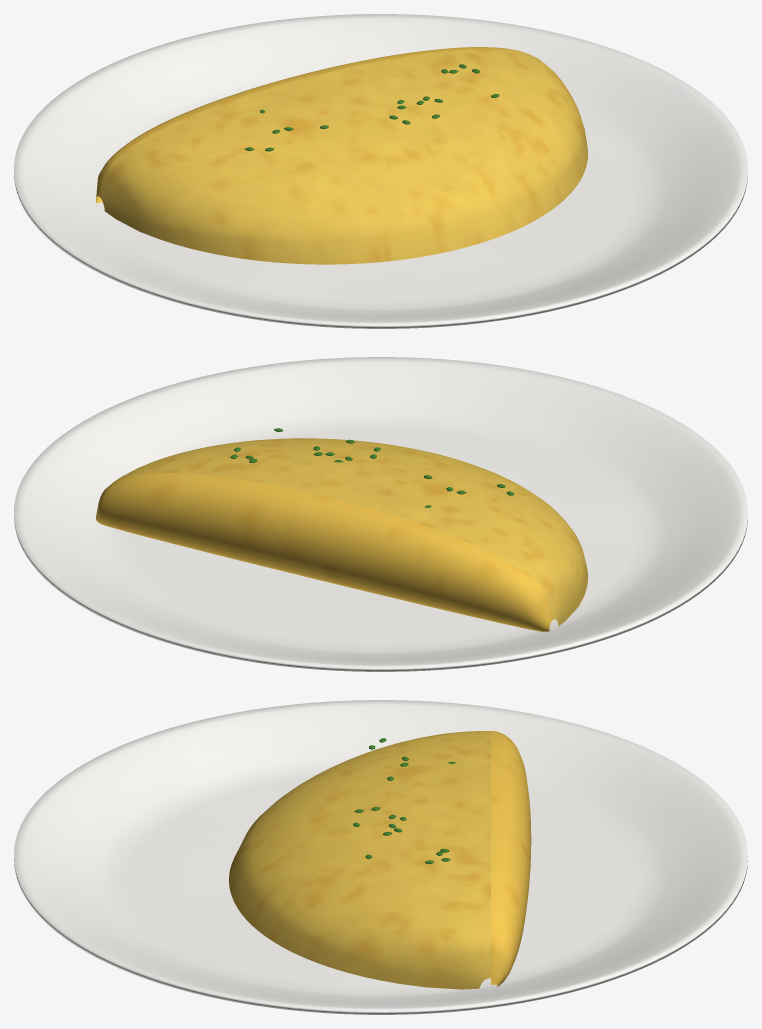
The model's file is omelette.glb.
3 renders of one model, top to bottom at view 1: azimuth 30°, elevation 25°; view 2: azimuth 150°, elevation 25°; view 3: azimuth 270°, elevation 25°, orthographic.
Parts seen in each view (by area): view 1: ceramic, satin; view 2: ceramic, satin; view 3: ceramic, satin.
Boxes of the visible parts, x1=… form: ceramic: x1=14, y1=14, x2=747, y2=328; satin: x1=96, y1=47, x2=587, y2=264; ceramic: x1=14, y1=357, x2=747, y2=671; satin: x1=96, y1=428, x2=587, y2=631; ceramic: x1=14, y1=700, x2=747, y2=1014; satin: x1=229, y1=731, x2=531, y2=989.
Bounding box in the file's own units: 0.28 × 0.04 × 0.28.
2 materials, 2 textured.
